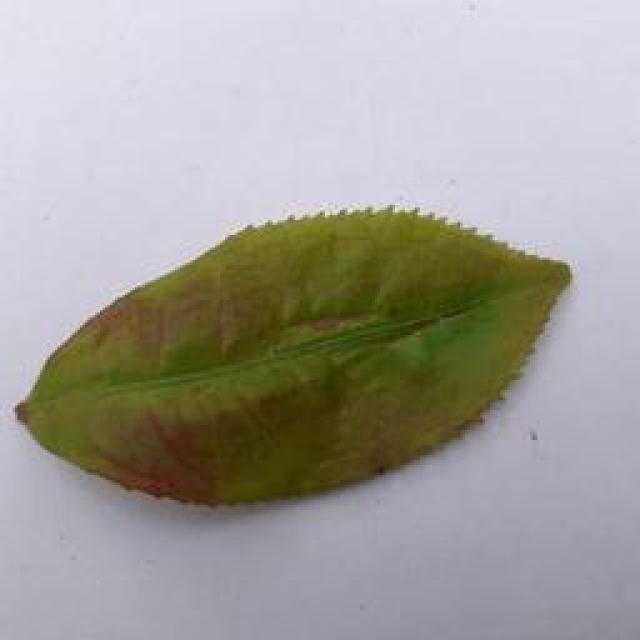Red Leaf Spot: (1, 185, 601, 519)
